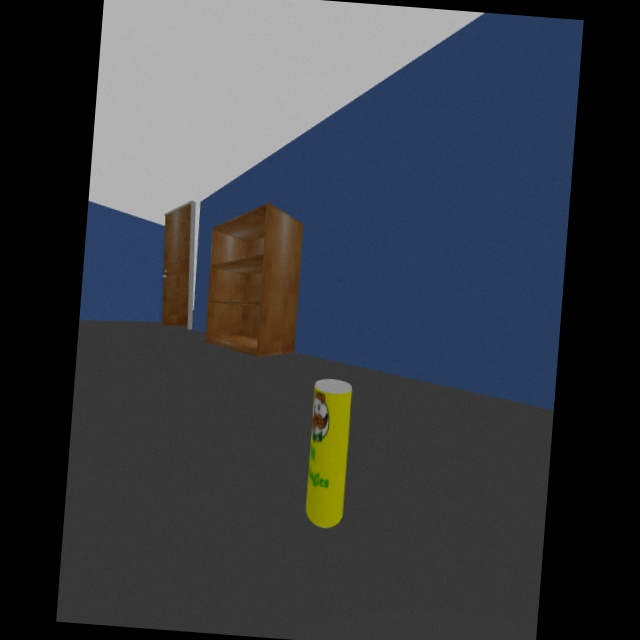chipsdose_gelb: (305, 378, 352, 529)
